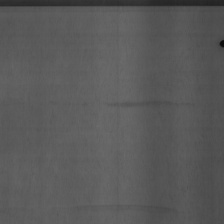welding_line: (0, 1, 224, 13), (217, 34, 224, 48)
